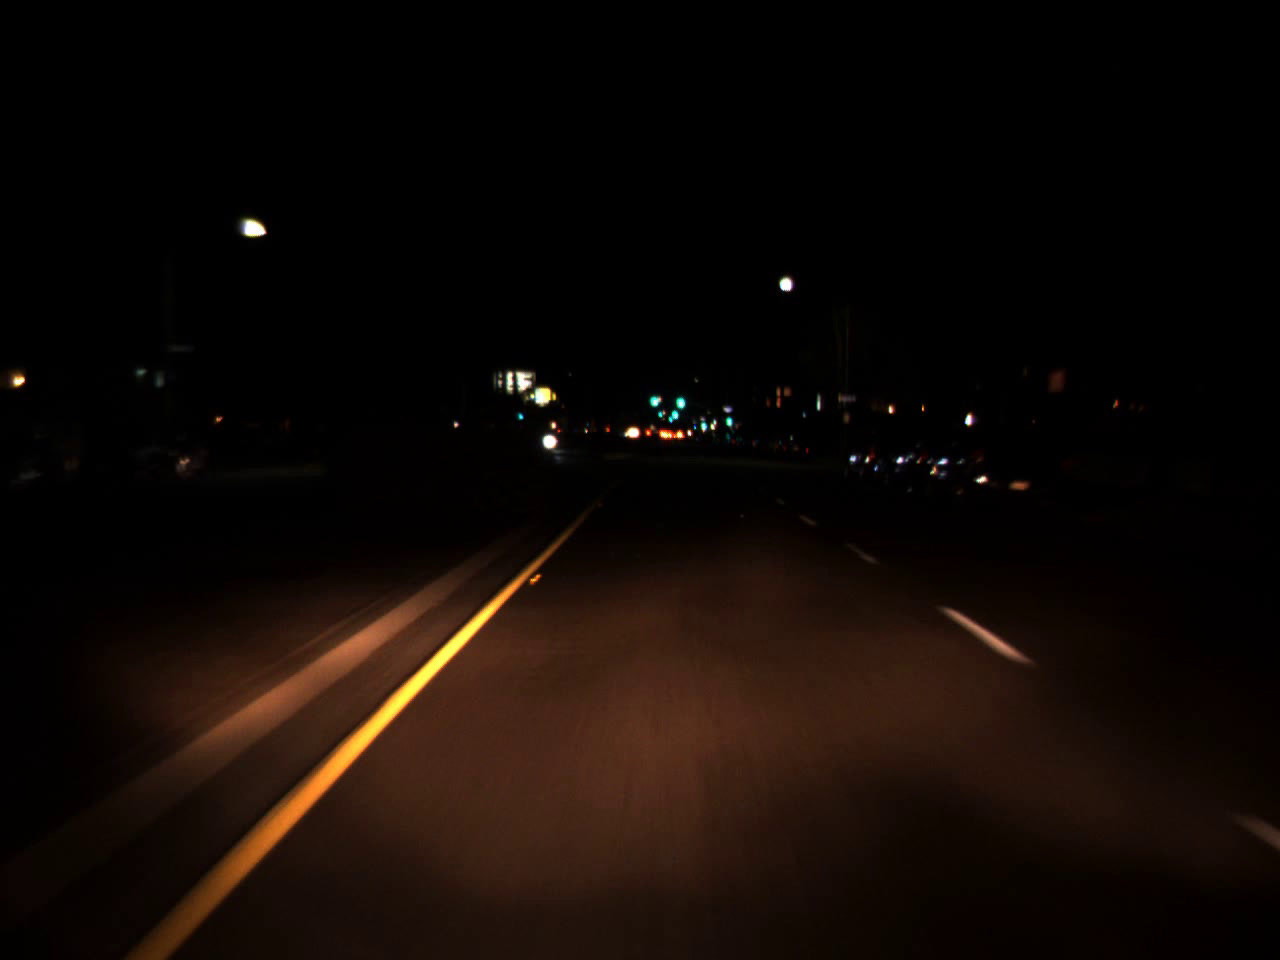go: (647, 385, 659, 409), (674, 387, 686, 411), (669, 399, 679, 423), (724, 406, 731, 430), (656, 404, 663, 419), (700, 418, 707, 430)
